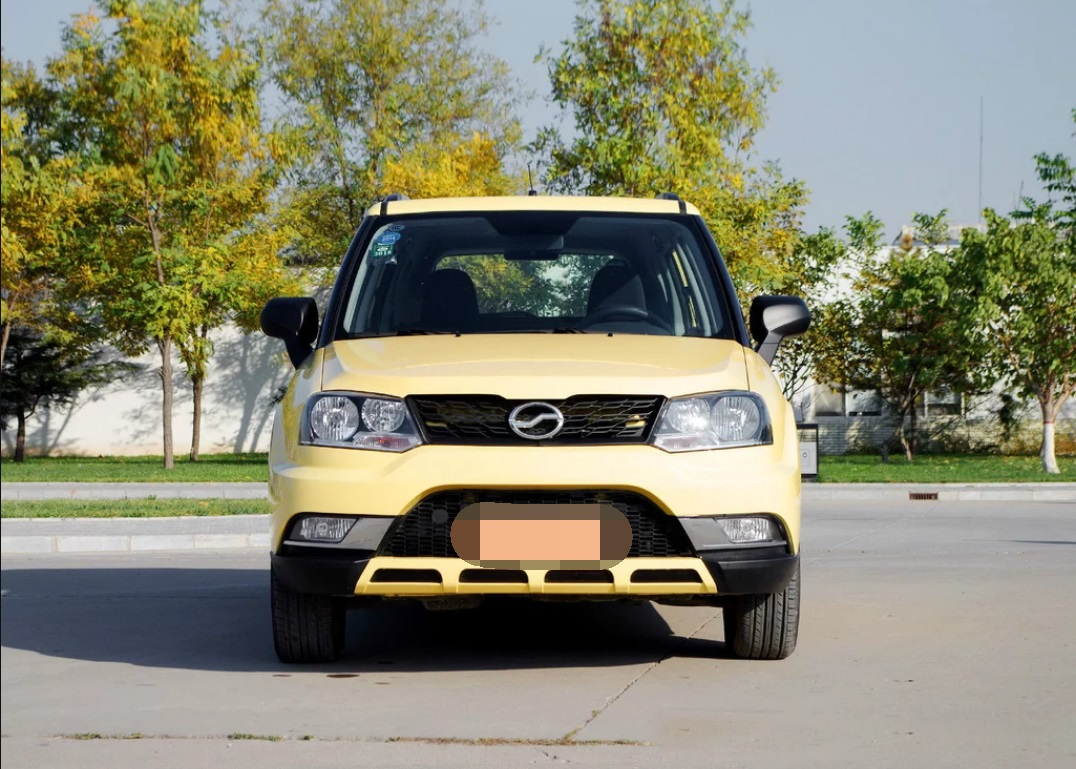SUV: (259, 195, 820, 668)
